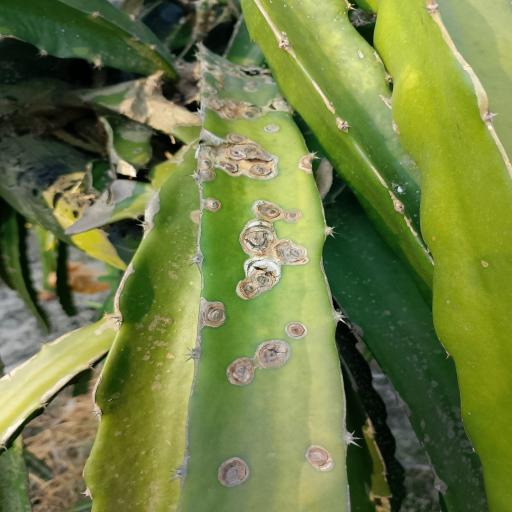stemcanker: (474, 257, 493, 271), (478, 256, 492, 272), (356, 49, 370, 63), (428, 232, 442, 244), (429, 230, 440, 243), (476, 260, 492, 267), (188, 279, 196, 288), (188, 278, 195, 288), (187, 281, 196, 288), (281, 30, 291, 36), (165, 317, 173, 324), (429, 236, 438, 242), (282, 4, 289, 10), (282, 30, 289, 36), (280, 31, 288, 36), (209, 272, 214, 277)
